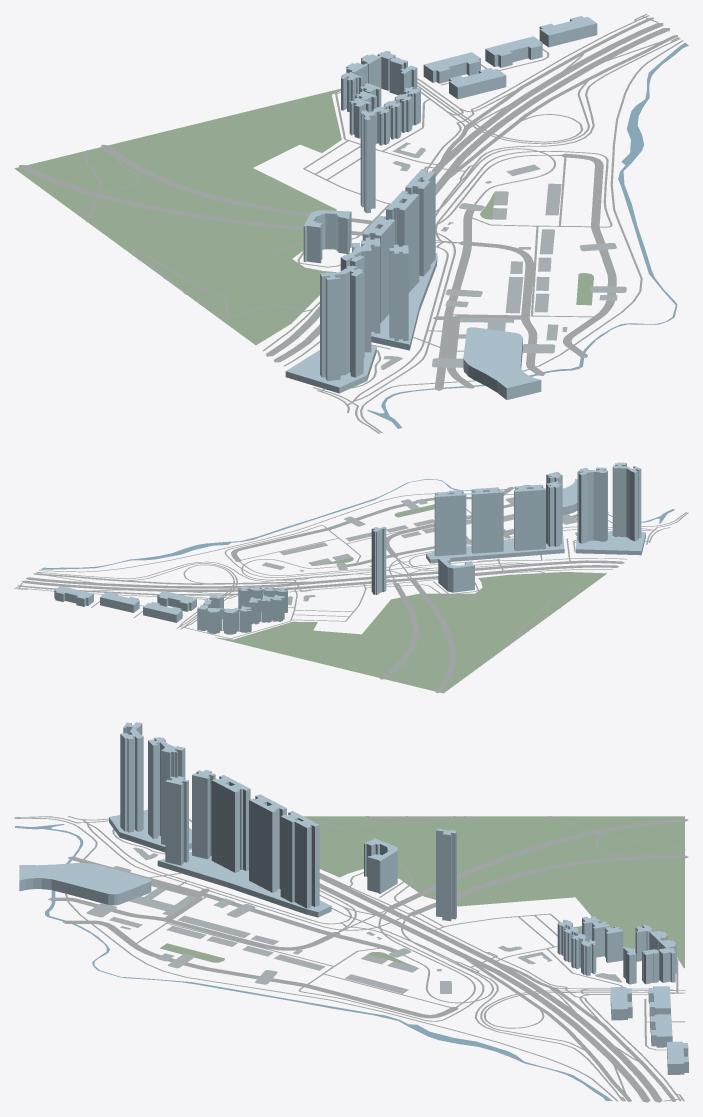
The model's file is 13_2-known-coarse.glb.
The picture shows the model from 3 angles, top to bottom: view 1: azimuth 30°, elevation 25°; view 2: azimuth 150°, elevation 25°; view 3: azimuth 270°, elevation 25°; orthographic projection. The views are drawn at different scales.
Size of the model in its own units: 1022 by 162 by 1002.
